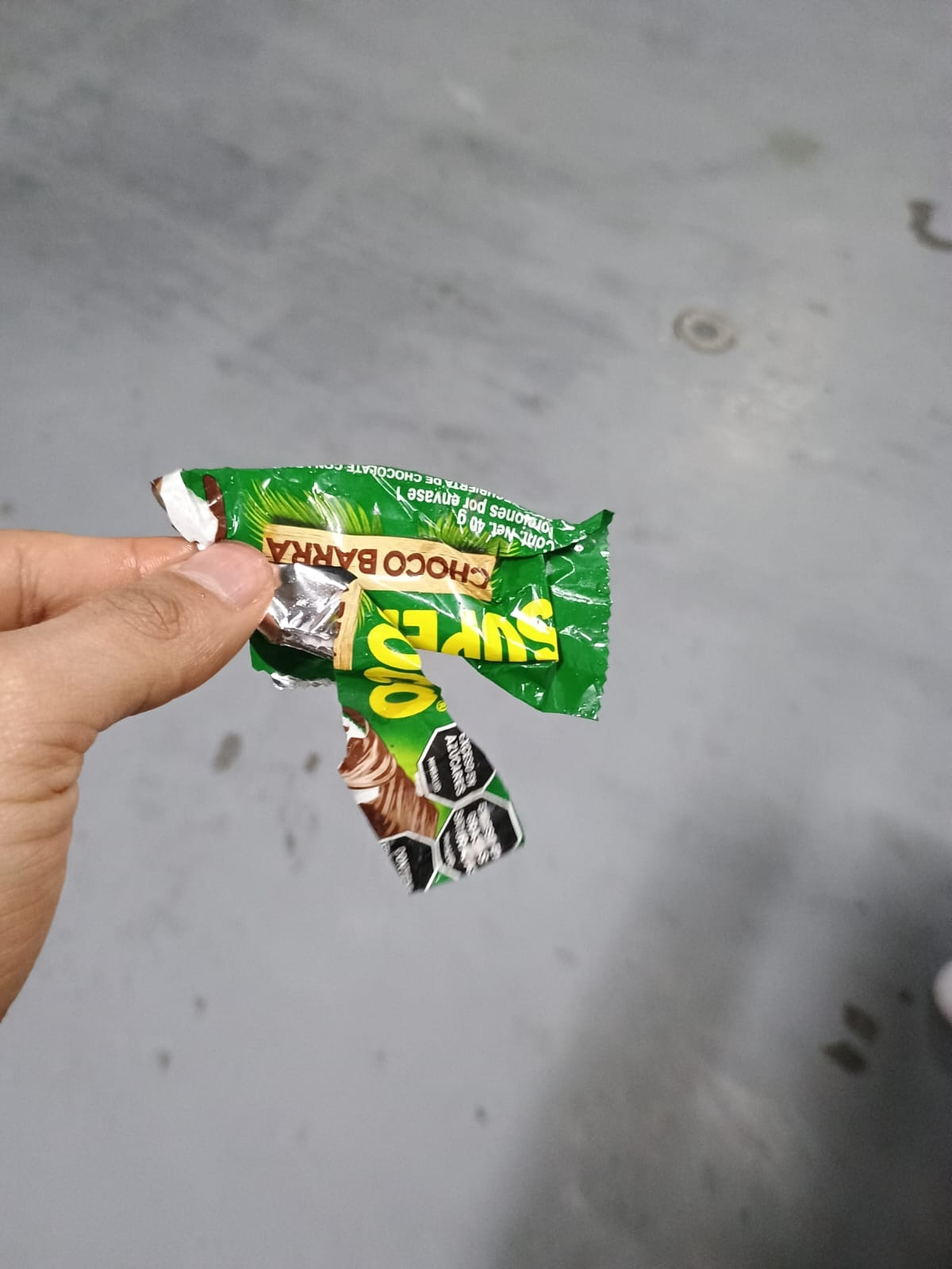Ordinario: (154, 465, 613, 892)
